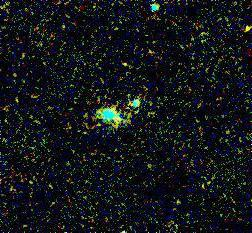star: (232, 16, 252, 46)
